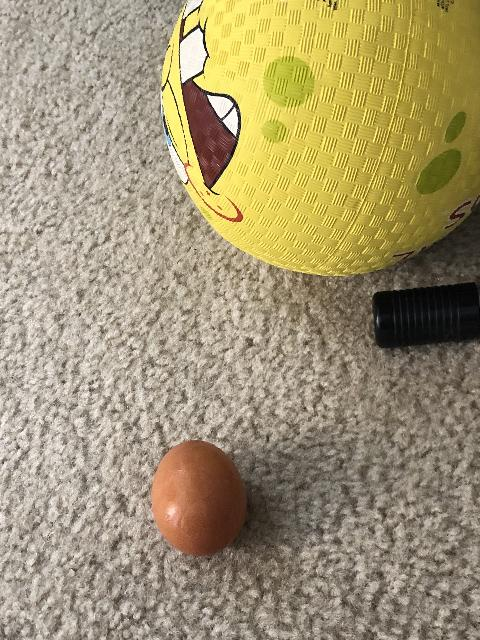Sano: (151, 439, 248, 555)
